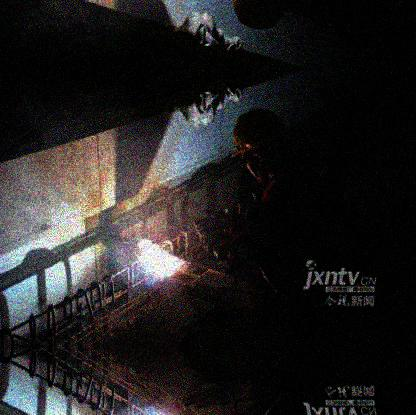helmet: (226, 107, 289, 184)
